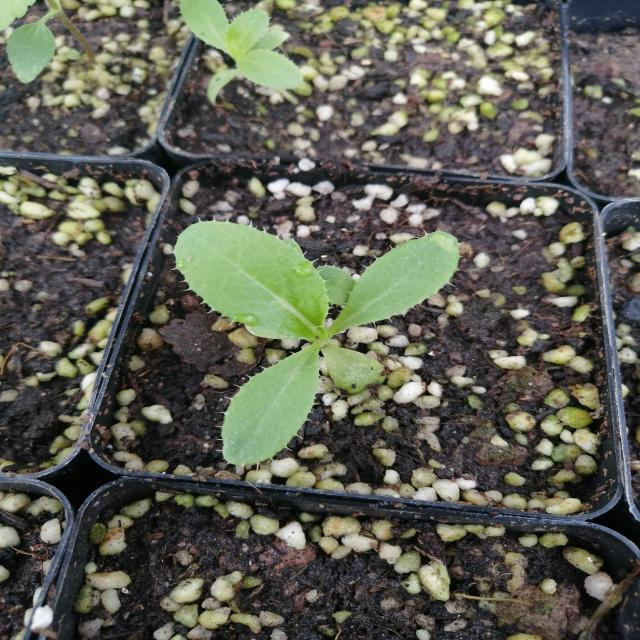field_thistle: (160, 215, 476, 464)
